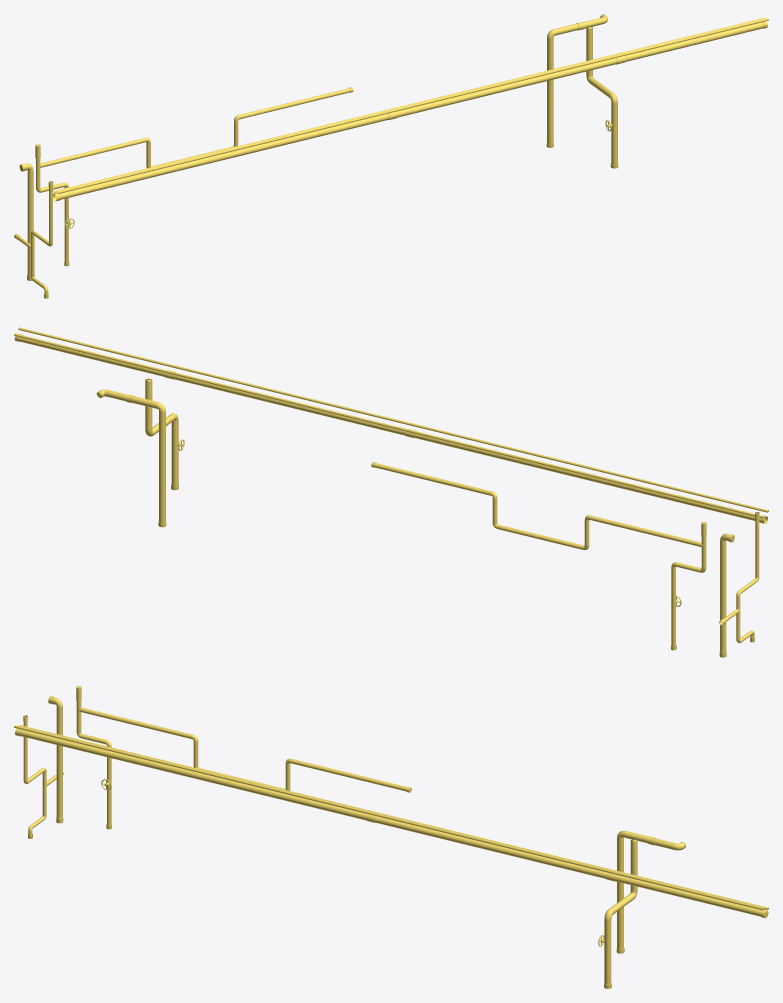
Rendered from tubos e fios cena3.fbx.
3 renders of one model, top to bottom at view 1: azimuth 30°, elevation 25°; view 2: azimuth 150°, elevation 25°; view 3: azimuth 330°, elevation 25°, orthographic. The views are drawn at different scales.
Visible parts, largest first — view 1: polySurface1704, polySurface1705, polySurface1707, pCylinder40, pCylinder37, pCylinder31, pCylinder32, pCylinder39, pCylinder34, pCylinder30; view 2: polySurface1704, polySurface1705, polySurface1707, pCylinder40, pCylinder37, pCylinder31, pCylinder32, pCylinder39, pCylinder34, pCylinder30; view 3: polySurface1704, polySurface1705, polySurface1707, pCylinder40, pCylinder37, pCylinder31, pCylinder32, pCylinder34, pCylinder30, pCylinder39.
Boxes of the visible parts, x1,y1,x2,y2 form: polySurface1704: (52, 21, 767, 201); polySurface1705: (56, 18, 768, 193); polySurface1707: (52, 18, 764, 193); pCylinder40: (586, 26, 618, 168); pCylinder37: (546, 22, 581, 147); pCylinder31: (192, 87, 353, 156); pCylinder32: (40, 137, 192, 168); pCylinder39: (14, 181, 53, 298); pCylinder34: (19, 163, 33, 280); pCylinder30: (35, 144, 69, 266); polySurface1704: (14, 333, 767, 523); polySurface1705: (18, 327, 768, 512); polySurface1707: (14, 333, 764, 518); pCylinder40: (145, 378, 178, 490); pCylinder37: (129, 395, 166, 527); pCylinder31: (371, 462, 540, 539); pCylinder32: (540, 515, 703, 550); pCylinder39: (719, 512, 759, 643); pCylinder34: (719, 533, 734, 657); pCylinder30: (671, 522, 706, 650); polySurface1704: (15, 728, 768, 918); polySurface1705: (14, 725, 764, 910); polySurface1707: (18, 725, 768, 910); pCylinder40: (604, 839, 637, 988); pCylinder37: (616, 830, 652, 953); pCylinder31: (242, 758, 411, 792); pCylinder32: (79, 707, 241, 778); pCylinder34: (48, 696, 63, 823); pCylinder30: (76, 686, 111, 829); pCylinder39: (23, 715, 63, 838).
Bounding box in the file's own units: 83.87 × 14.37 × 9.16.
